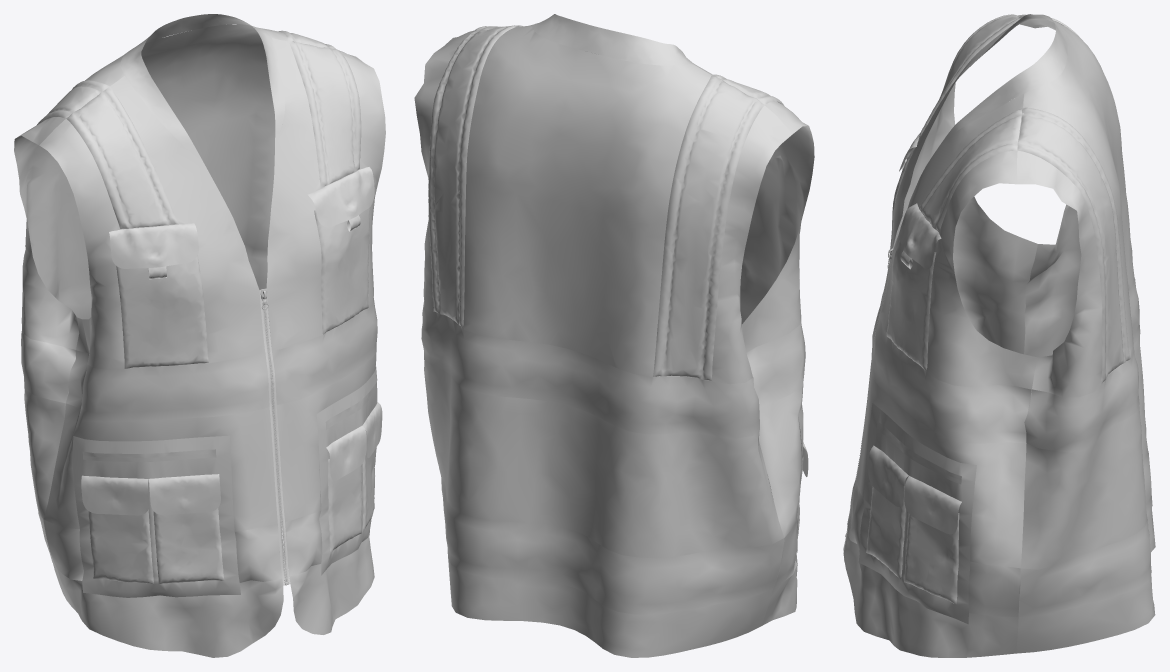
The model's file is gilet.glb.
The picture shows the model from 3 angles, left to right: view 1: azimuth 30°, elevation 25°; view 2: azimuth 150°, elevation 25°; view 3: azimuth 270°, elevation 25°; orthographic projection. The views are drawn at different scales.
Parts seen in each view (by area): view 1: Cloth_mesh; view 2: Cloth_mesh; view 3: Cloth_mesh.
Boxes of the visible parts, x1,y1,x2,y2 form: Cloth_mesh: [14, 14, 385, 657]; Cloth_mesh: [414, 14, 814, 657]; Cloth_mesh: [843, 14, 1155, 657].
Bounding box in the file's own units: 0.4246 × 0.6968 × 0.3419.
7 materials, 6 textured.
